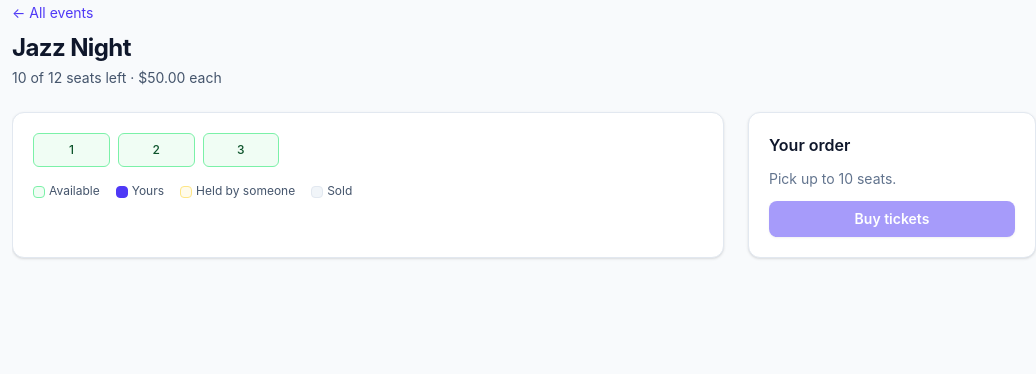
Scenario: EventPage › explains a lost race and clears the selection
Step 1. Click the button named "Seat 1, available" → (71, 150), box [33,133,110,167]
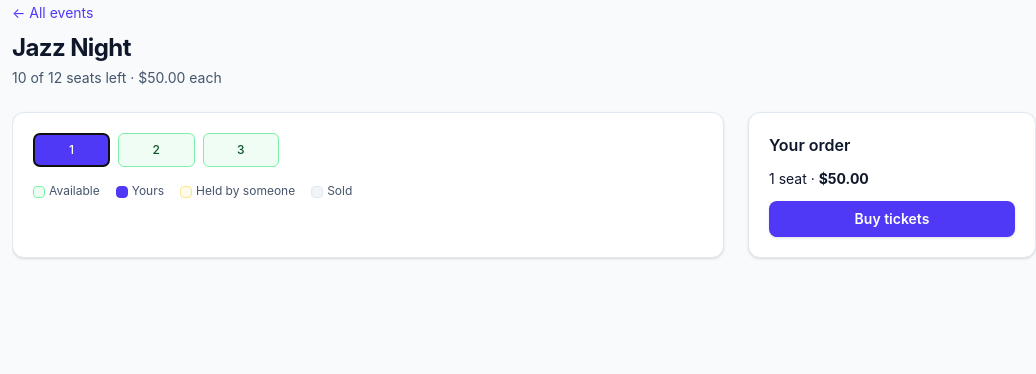
Step 2. Click the button "Buy tickets" → (892, 219), box [769,201,1015,237]
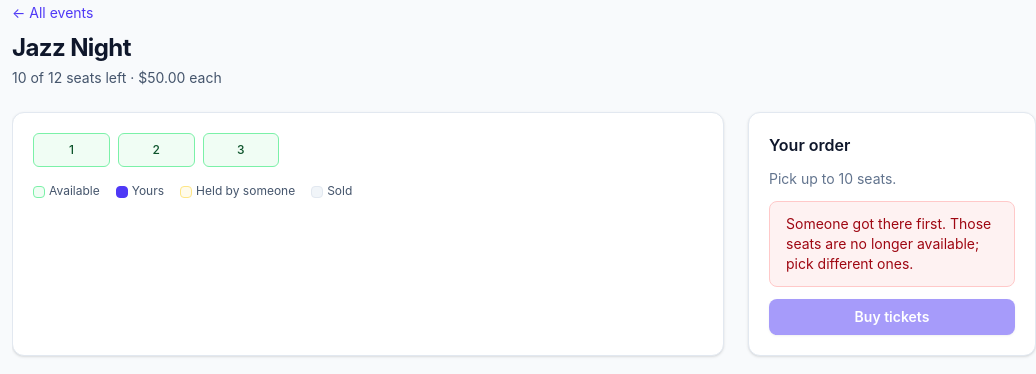
Expected: the message shows "no longer available", [786,215,991,272]
Expected: the button "Buy tickets" is disabled, [769,299,1015,335]
